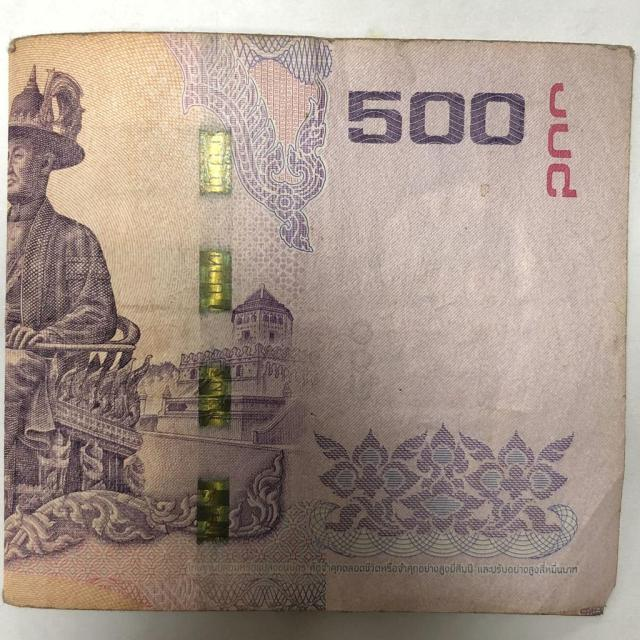THAI500: (2, 32, 632, 615)
